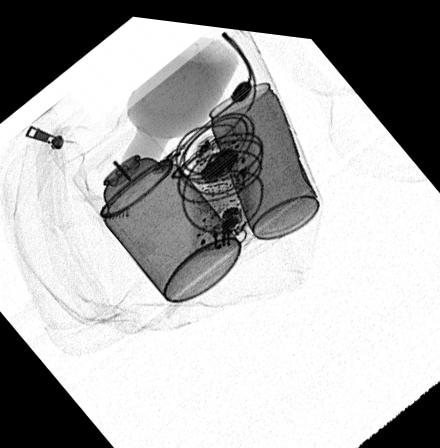Sprayer: (71, 122, 243, 298)
